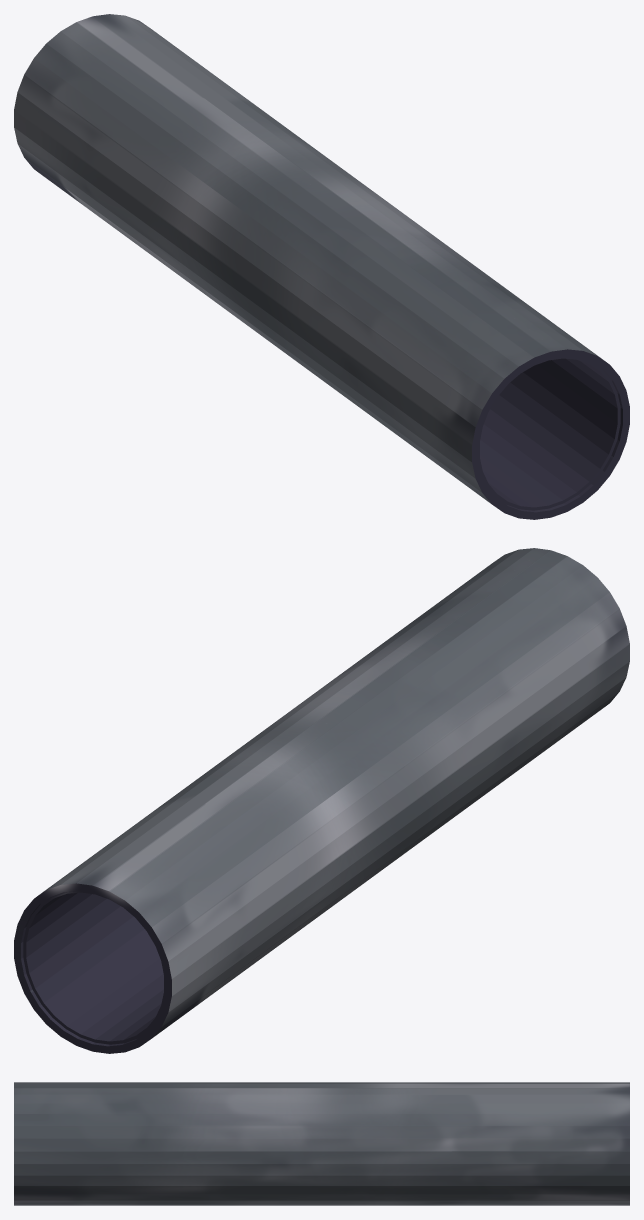
Rendered from Concrete tube.fbx.
The picture shows the model from 3 angles, top to bottom: view 1: azimuth 30°, elevation 25°; view 2: azimuth 150°, elevation 25°; view 3: azimuth 270°, elevation 25°; orthographic projection. The views are drawn at different scales.
Parts seen in each view (by area): view 1: Cylinder; view 2: Cylinder; view 3: Cylinder.
Part boxes in pixels (x1,y1,x2,y2): Cylinder: (14,14,629,519); Cylinder: (14,548,629,1053); Cylinder: (14,1082,629,1205).
Bounding box in the file's own units: 199 × 200 × 1000.
1 material, 1 textured.
